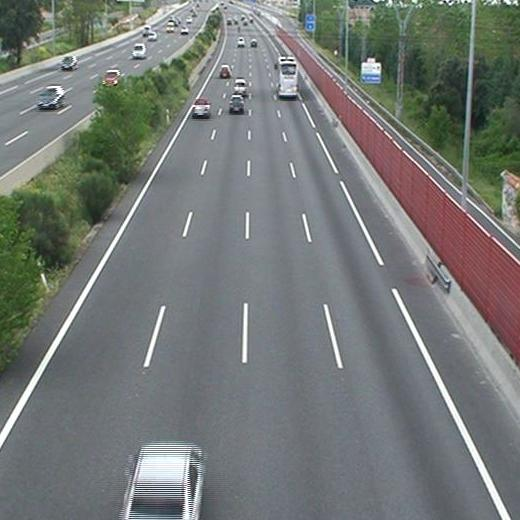bus: (277, 56, 298, 98)
car: (121, 450, 204, 520), (192, 99, 210, 117), (228, 95, 244, 114), (233, 78, 247, 96), (219, 65, 231, 79), (237, 37, 245, 47), (250, 38, 257, 48)
